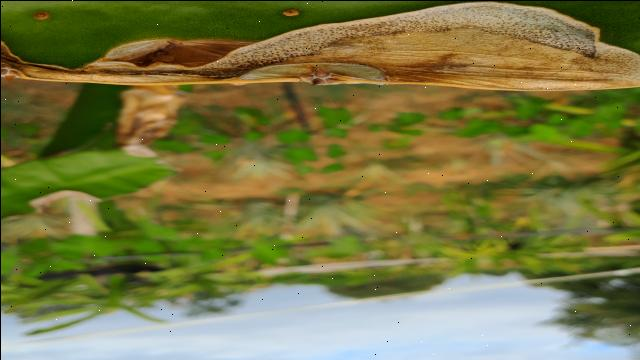stemcanker: (23, 5, 64, 25), (277, 4, 307, 24)
